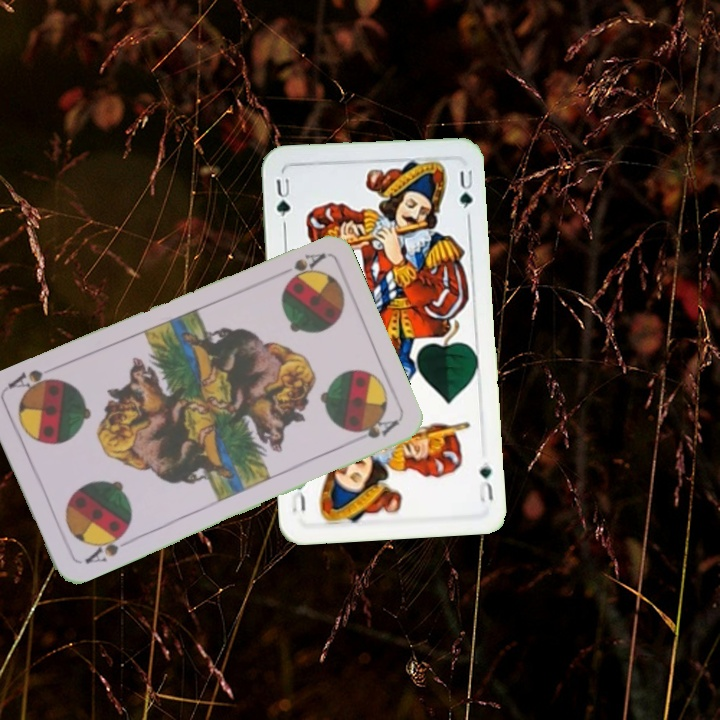GU: (272, 172, 293, 219), (474, 461, 496, 505)
SA: (81, 527, 134, 567), (271, 249, 328, 285)
